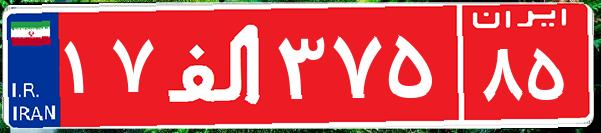1: (57, 26, 110, 107)
3: (273, 28, 330, 110)
5: (385, 28, 445, 110), (525, 38, 570, 115)
7: (330, 28, 385, 110), (110, 28, 158, 105)
8: (475, 38, 525, 113)
الف: (158, 15, 273, 115)
